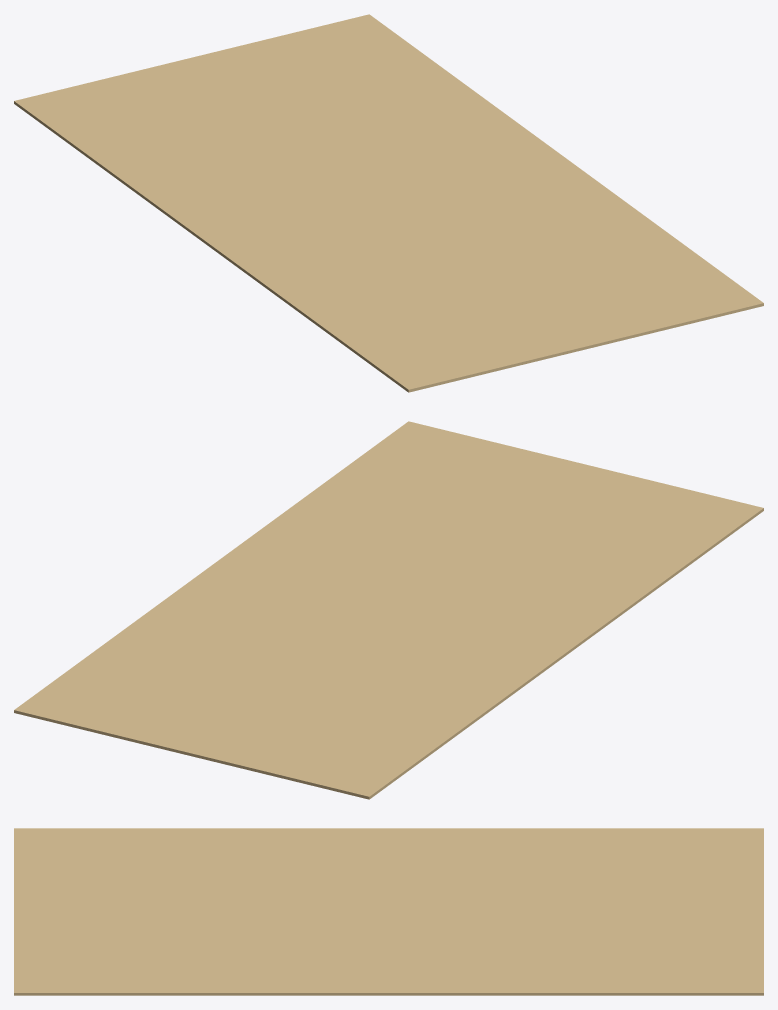
3 views of the same model, one above another, from view 1: azimuth 30°, elevation 25°; view 2: azimuth 150°, elevation 25°; view 3: azimuth 270°, elevation 25° (orthographic). The views are drawn at different scales.
Parts seen in each view (by area): view 1: 河流_独立纸底.001; view 2: 河流_独立纸底.001; view 3: 河流_独立纸底.001.
Boxes of the visible parts, bbox=[...] form: 河流_独立纸底.001: bbox=[14, 14, 763, 392]; 河流_独立纸底.001: bbox=[14, 421, 763, 799]; 河流_独立纸底.001: bbox=[14, 828, 763, 995].
Size of the model in its own units: 1.04 by 0.008 by 2.
